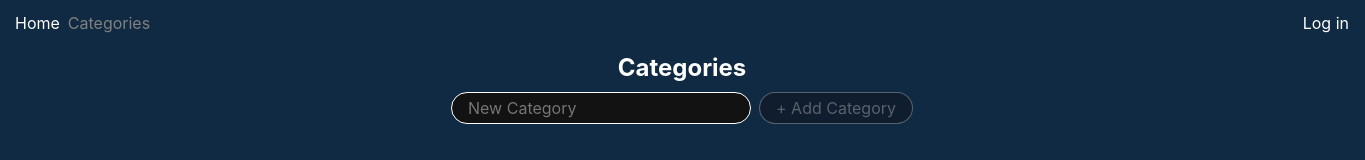
it: Category page › should add a category for an authenticated user
In the field with placeholder "New Category": (601, 108) [451,92,751,124], type "Anatomy"
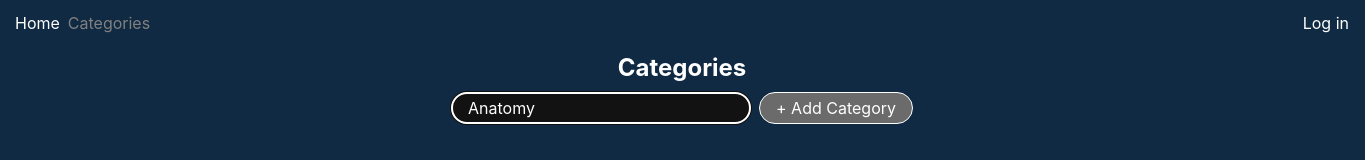
Click the submit button: click(836, 108) [759,92,913,124]
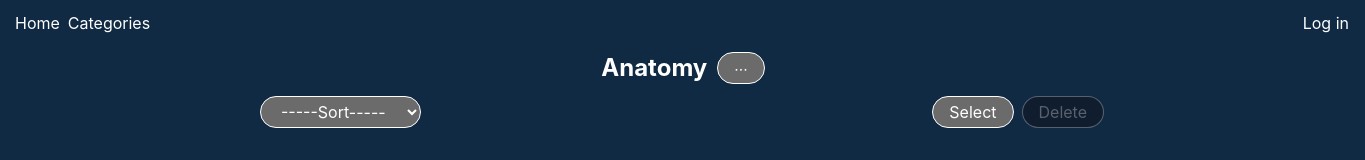
Expected: the heading with class "category-header" reads "Anatomy", [601,53,707,82]
